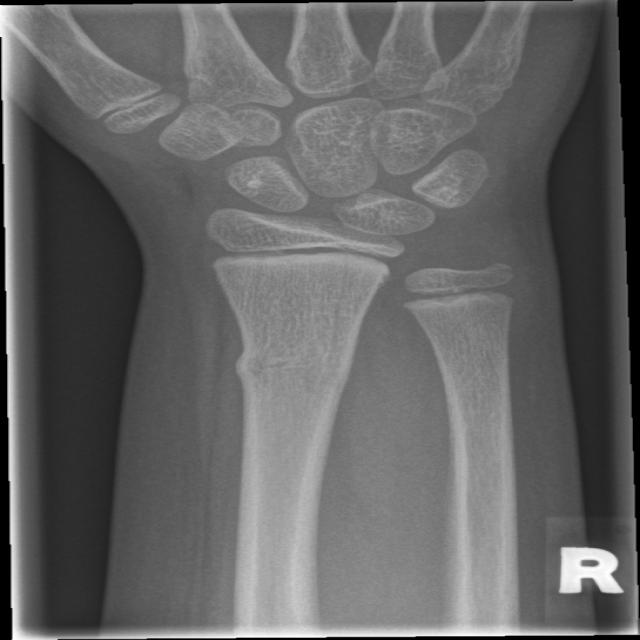radius fracture: (201, 314, 377, 436)
